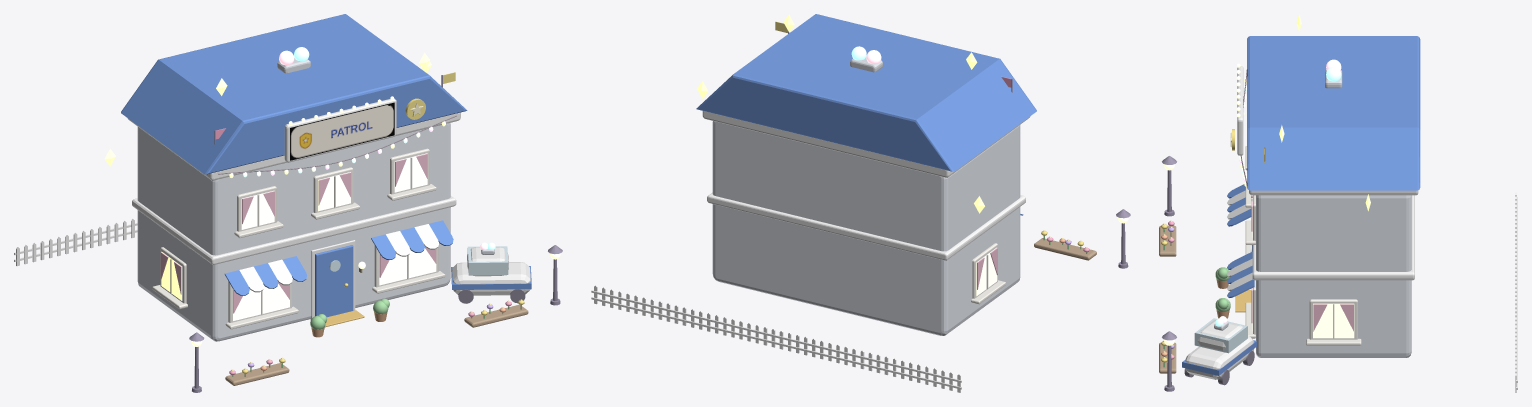
File: building_police_L10.glb
3 views of the same model, side by side, from view 1: azimuth 30°, elevation 25°; view 2: azimuth 150°, elevation 25°; view 3: azimuth 270°, elevation 25° (orthographic).
Parts seen in each view (by area): view 1: Body, police_L10; view 2: Body, police_L10; view 3: Body, police_L10.
Boxes of the visible parts, left/top/right/bottom form: Body: left=121, top=14, right=531, bottom=341; police_L10: left=14, top=52, right=562, bottom=392; Body: left=696, top=14, right=1036, bottom=335; police_L10: left=591, top=15, right=1130, bottom=392; Body: left=1182, top=36, right=1420, bottom=385; police_L10: left=1159, top=14, right=1517, bottom=392.
Bounding box in the file's own units: 25.2 × 15.65 × 20.75.
Materials: 38 (1 with a texture image).
